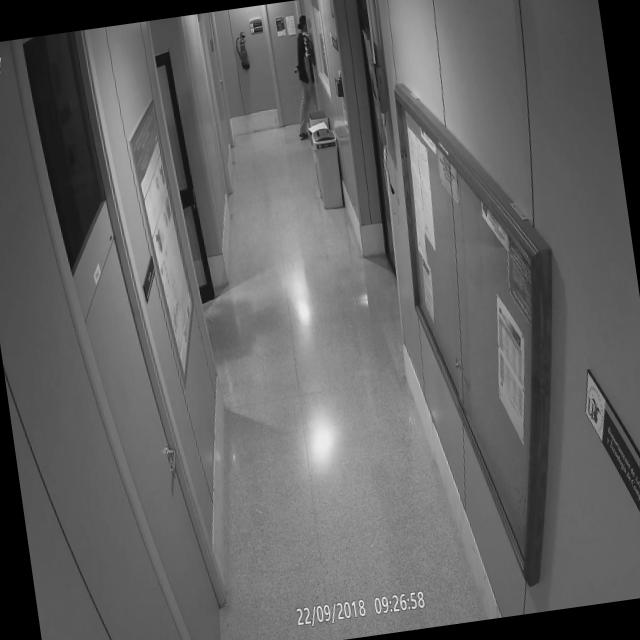gun: (291, 58, 307, 99)
person with a gun: (282, 10, 324, 140)
